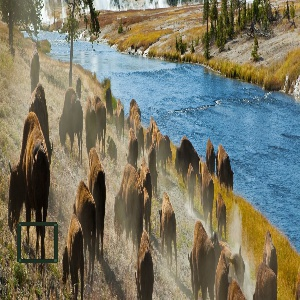square: (17, 221, 58, 264)
